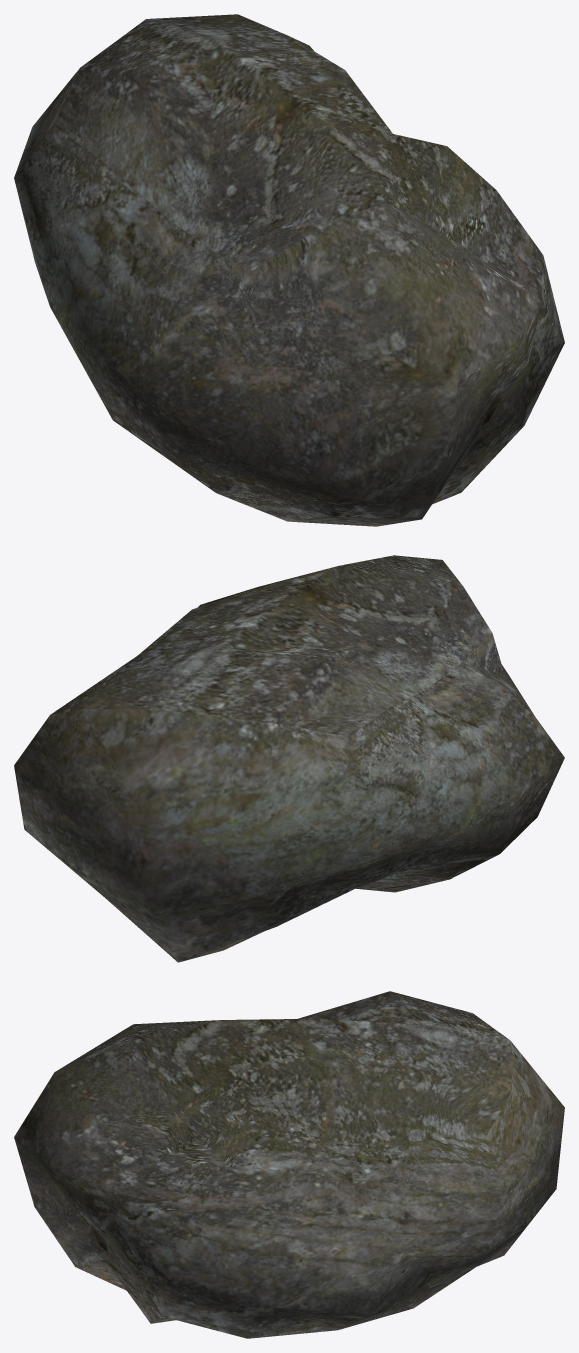
Rendered from roca02_LP.fbx.
3 renders of one model, top to bottom at view 1: azimuth 30°, elevation 25°; view 2: azimuth 150°, elevation 25°; view 3: azimuth 270°, elevation 25°, orthographic. The views are drawn at different scales.
Visible parts, largest first — view 1: roca02_LP; view 2: roca02_LP; view 3: roca02_LP.
Boxes of the visible parts, box(x1,y1,x2,y2) form: roca02_LP: box(14, 14, 564, 526); roca02_LP: box(14, 555, 564, 962); roca02_LP: box(14, 991, 564, 1338).
Bounding box in the file's own units: 193 × 152 × 268.
1 material, 1 textured.
